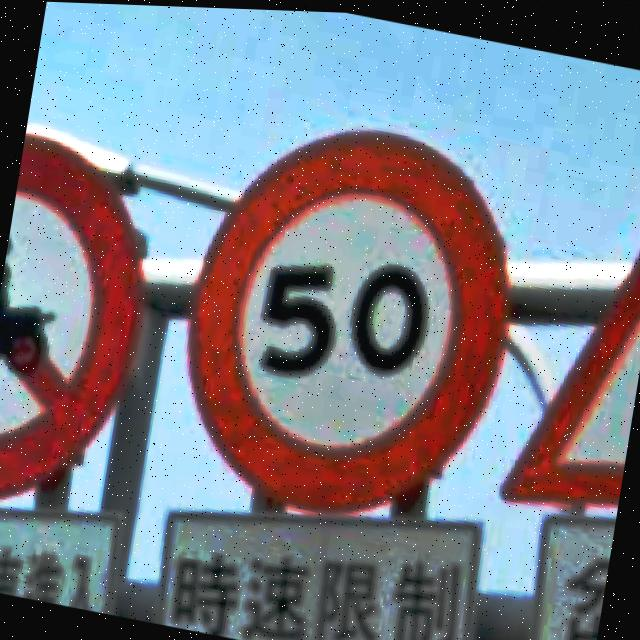max50: (160, 91, 536, 539)
